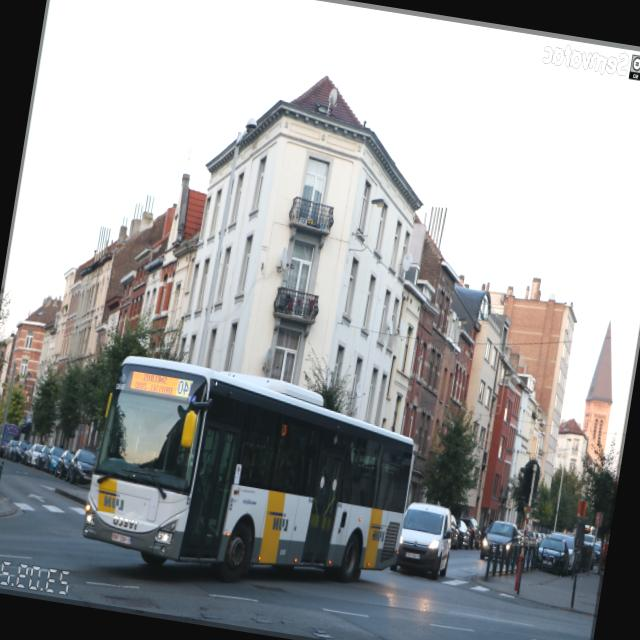bus-number: (175, 378, 194, 398)
